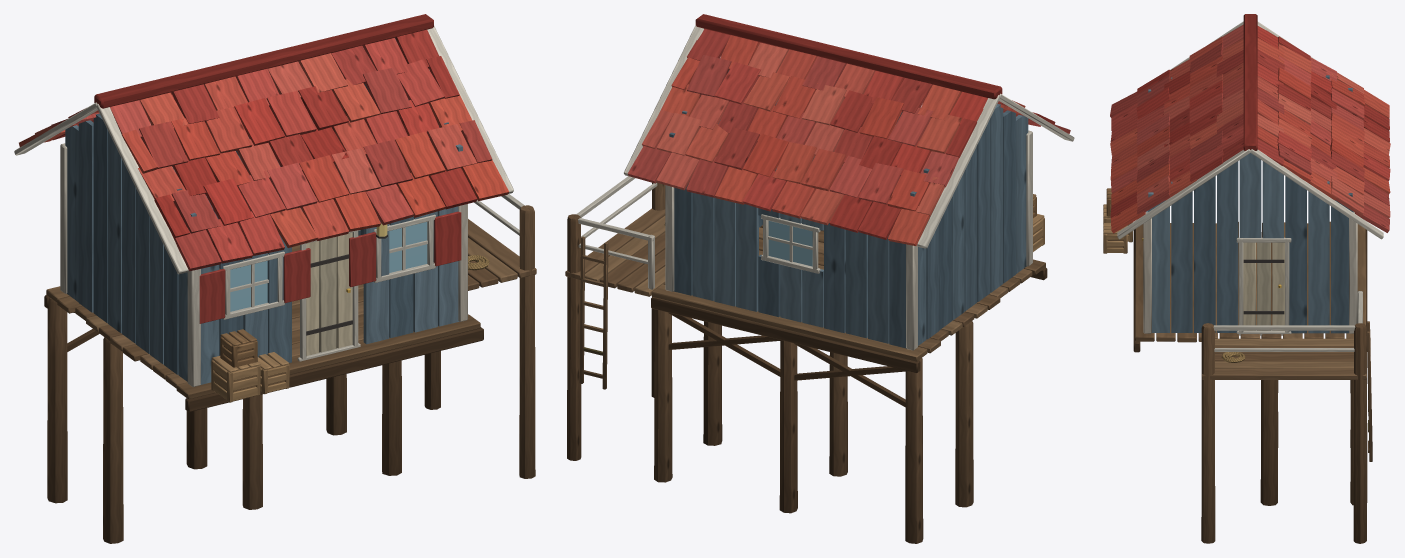
The model's file is ship-house-b.glb.
3 renders of one model, left to right at view 1: azimuth 30°, elevation 25°; view 2: azimuth 150°, elevation 25°; view 3: azimuth 270°, elevation 25°, orthographic. The views are drawn at different scales.
Parts seen in each view (by area): view 1: ship-house-b; view 2: ship-house-b; view 3: ship-house-b.
Part boxes in pixels (left/top/right/bottom): ship-house-b: left=14, top=14, right=536, bottom=543; ship-house-b: left=565, top=14, right=1074, bottom=543; ship-house-b: left=1103, top=14, right=1390, bottom=543.
Bounding box in the file's own units: 7.1 × 7.53 × 5.32.
Materials: 4 (2 with a texture image).
